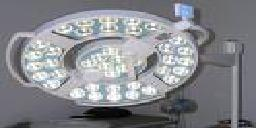LED: (8, 11, 203, 107)
